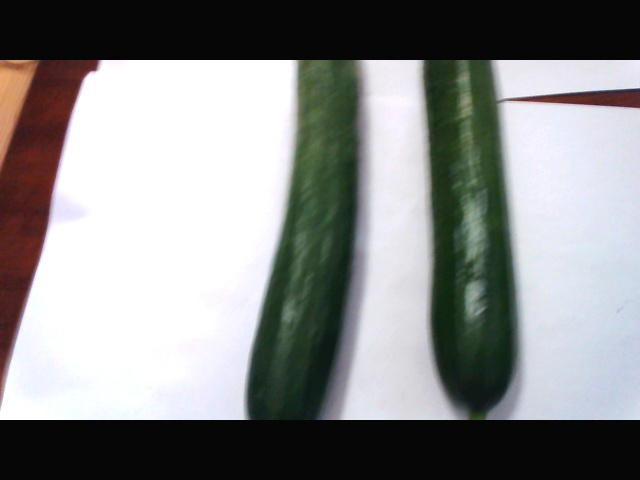cucumber: (244, 57, 373, 420), (415, 58, 522, 419)
